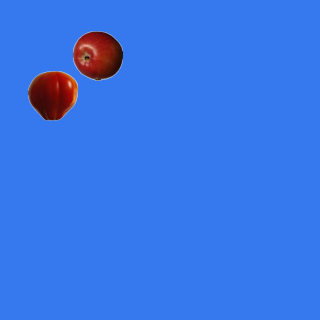Apple Braeburn: (72, 30, 122, 80)
Tomato 1: (27, 70, 77, 120)
